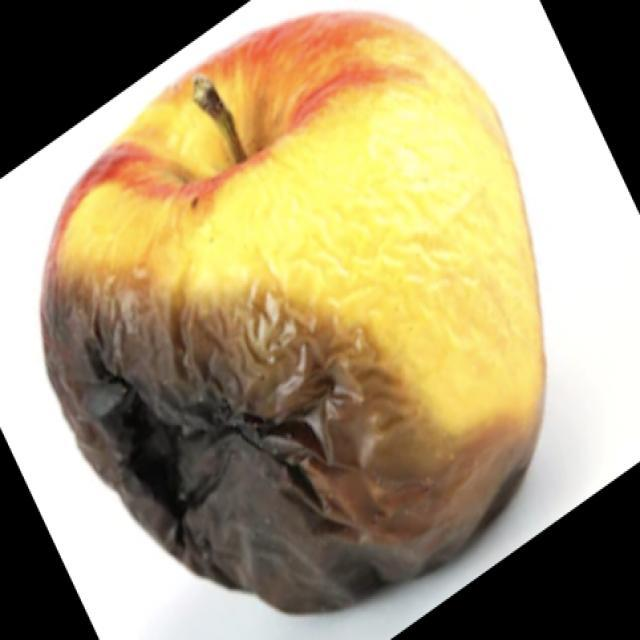Rotten: (67, 20, 533, 593)
